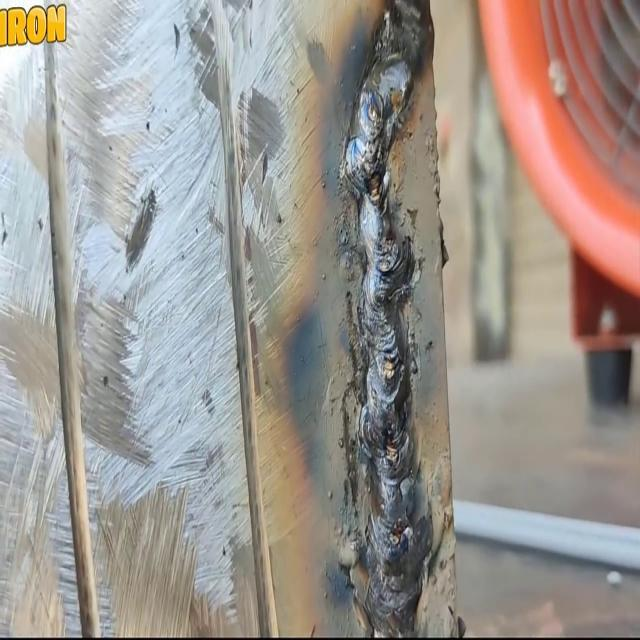Bad Weld: (337, 1, 436, 640)
